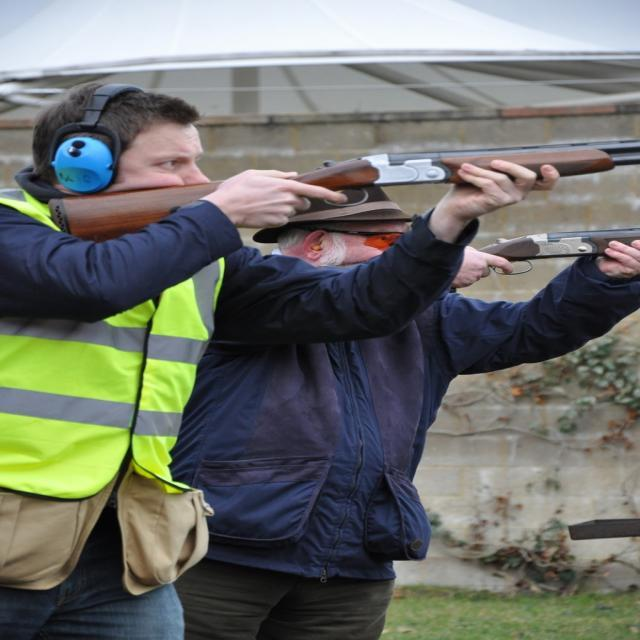weapon: (48, 136, 640, 242), (444, 223, 640, 290)
